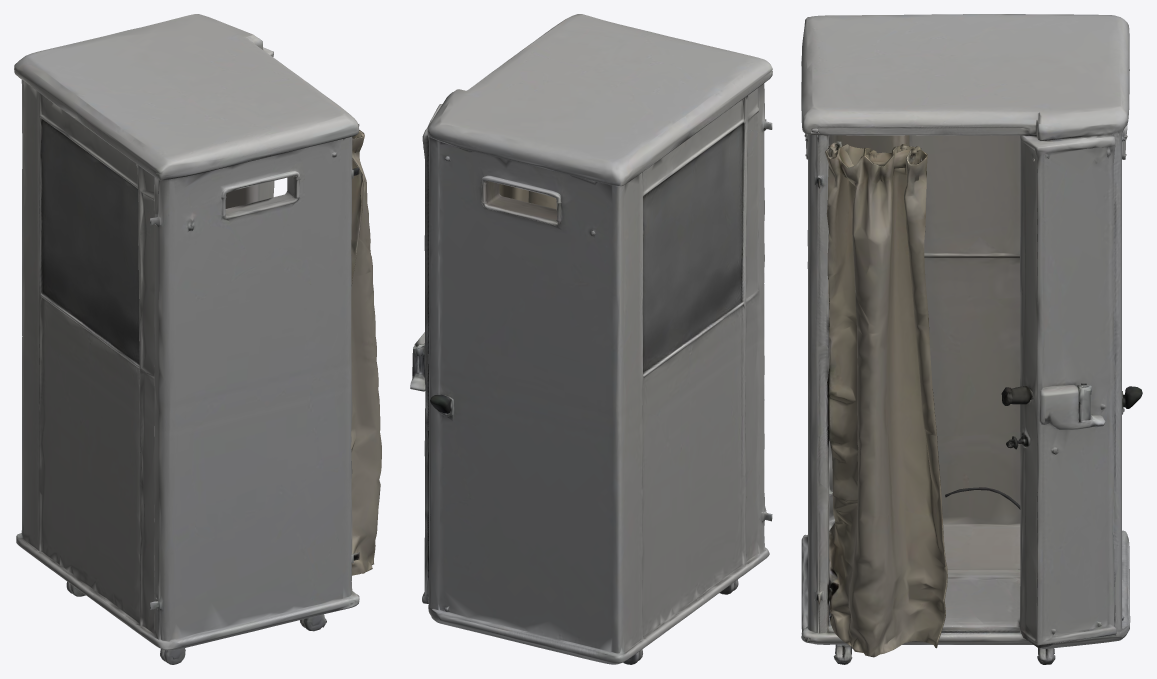
Rendered from crew_quarters.glb.
3 renders of one model, left to right at view 1: azimuth 30°, elevation 25°; view 2: azimuth 150°, elevation 25°; view 3: azimuth 270°, elevation 25°, orthographic. The views are drawn at different scales.
Parts seen in each view (by area): view 1: tripo_node_8181c11f-fdd0-4488-9e64-0b63bdd3c0e5; view 2: tripo_node_8181c11f-fdd0-4488-9e64-0b63bdd3c0e5; view 3: tripo_node_8181c11f-fdd0-4488-9e64-0b63bdd3c0e5.
Boxes of the visible parts, x1=… form: tripo_node_8181c11f-fdd0-4488-9e64-0b63bdd3c0e5: x1=14, y1=14, x2=381, y2=664; tripo_node_8181c11f-fdd0-4488-9e64-0b63bdd3c0e5: x1=410, y1=14, x2=772, y2=664; tripo_node_8181c11f-fdd0-4488-9e64-0b63bdd3c0e5: x1=801, y1=14, x2=1142, y2=664.
Bounding box in the file's own units: 0.5006 × 0.9796 × 0.539.
Materials: 1 (1 with a texture image).
